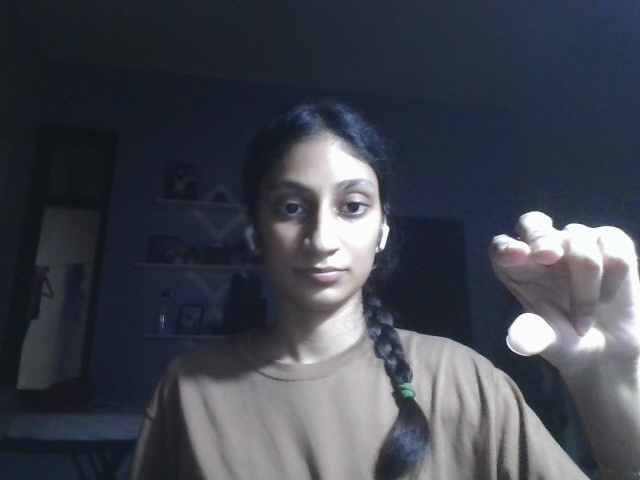no: (485, 210, 640, 361)
